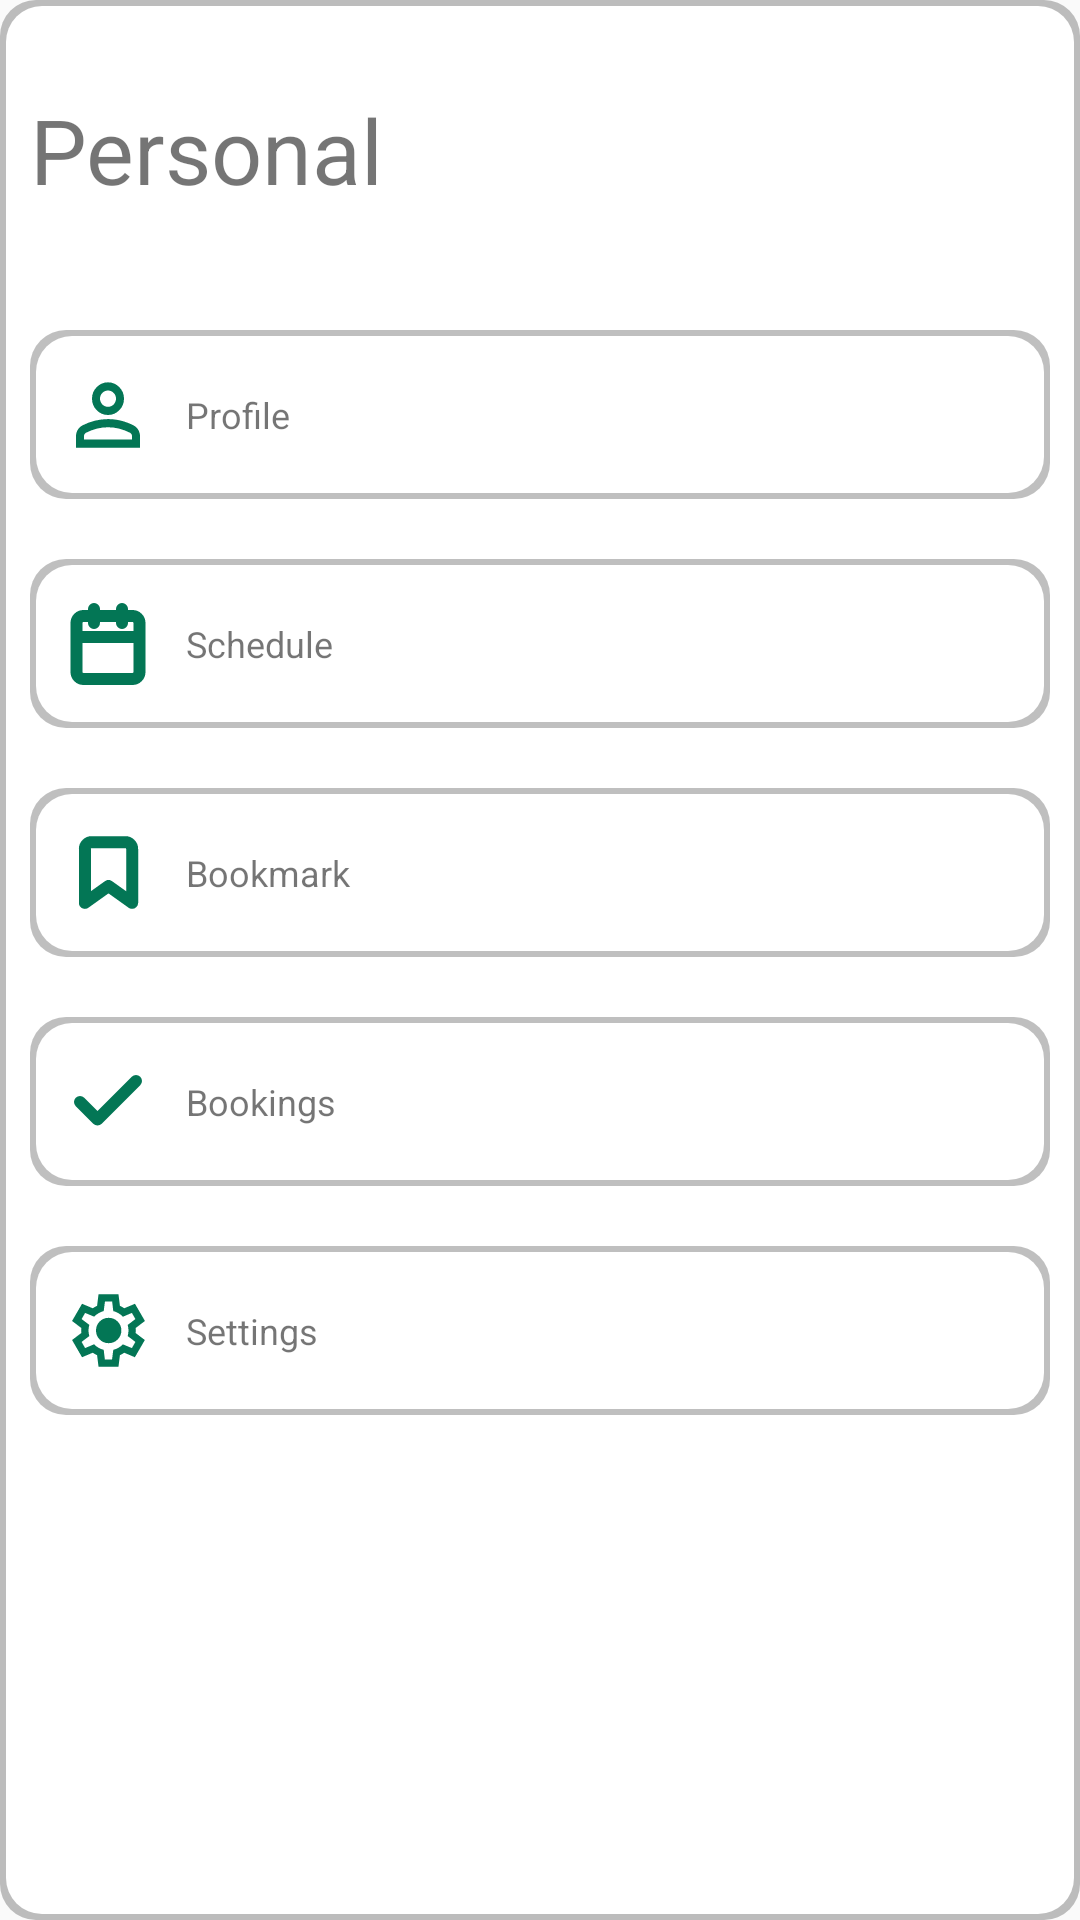

Locate icon controls on the screen. Image size 1080px x 1920px, boxes as box(x1, y1, x2, y2).
calendar: box(70, 603, 146, 685)
check: box(74, 1075, 142, 1126)
person: box(76, 382, 140, 448)
